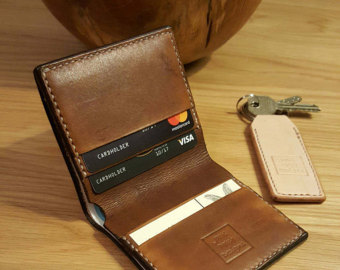monedero: (32, 25, 313, 270)
